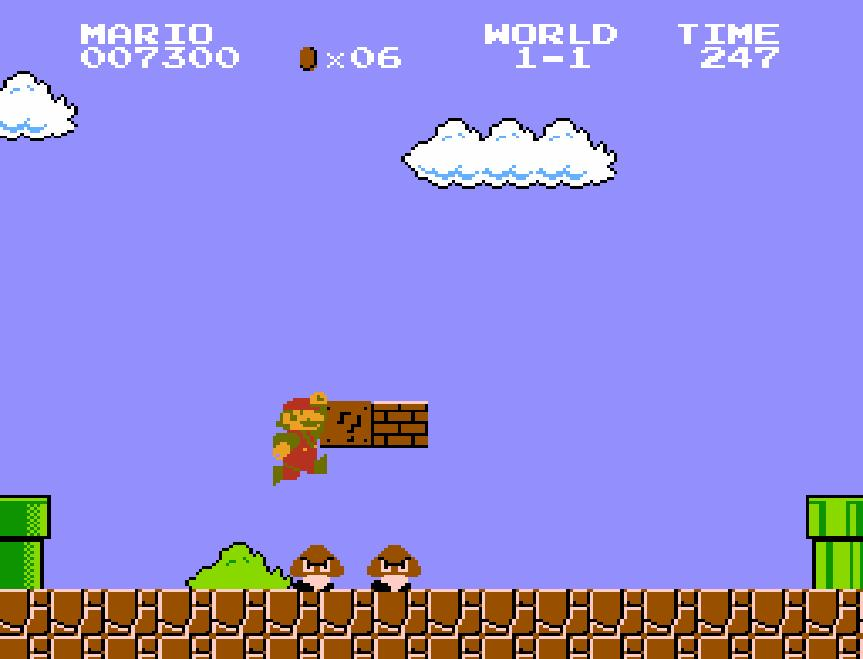big_mario: (270, 390, 328, 488)
